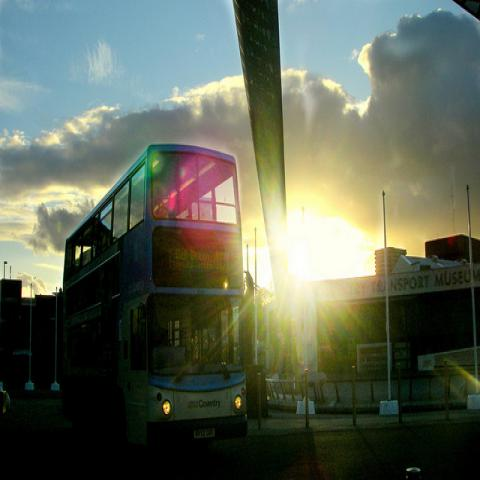bus: (59, 140, 251, 454)
